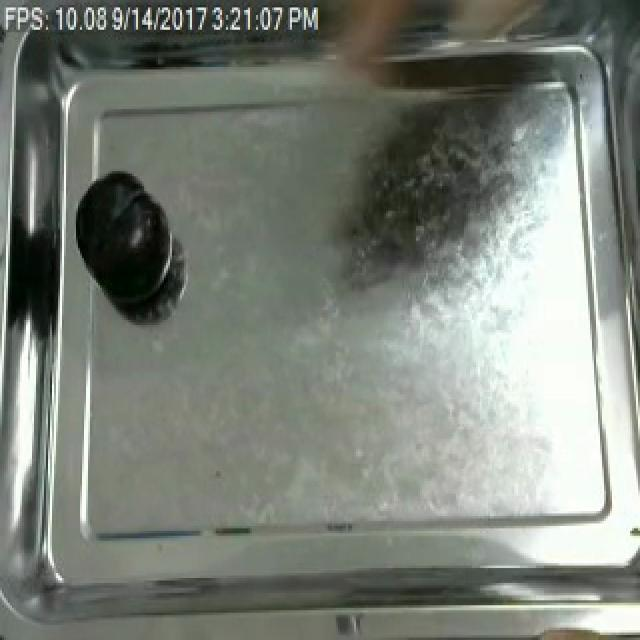Fruit: (72, 169, 176, 315)
